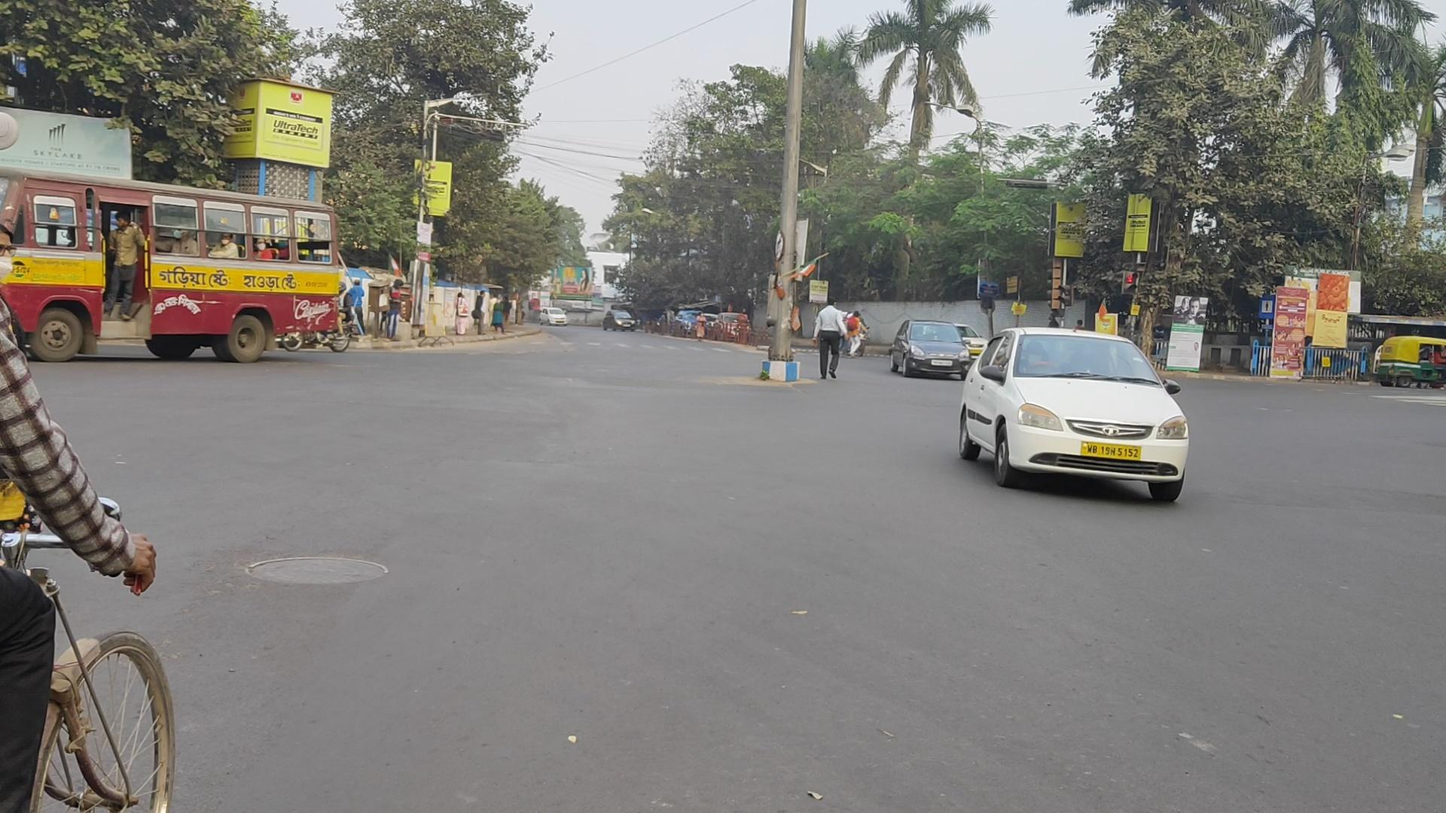Auto: (1377, 335, 1446, 388)
Bus: (1, 166, 341, 364)
car: (958, 327, 1189, 503), (889, 319, 972, 382), (714, 312, 750, 343), (674, 310, 703, 337), (602, 310, 636, 333), (539, 307, 568, 327)
